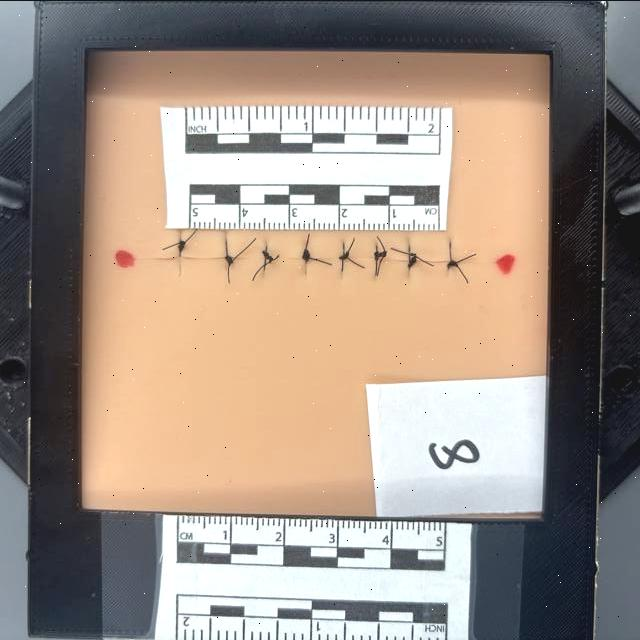incision_line: (120, 252, 506, 266)
scale_marker: (238, 198, 285, 230)
suture_d: (409, 242, 455, 270), (179, 242, 223, 268), (264, 241, 304, 269), (341, 246, 378, 272), (308, 245, 342, 272), (377, 247, 412, 271), (233, 246, 263, 264)
suture_l: (223, 257, 231, 284), (338, 257, 347, 279), (300, 258, 310, 277), (176, 258, 184, 278), (373, 258, 379, 278), (406, 260, 413, 276), (262, 258, 269, 272), (448, 260, 453, 268)
suture_r: (301, 231, 314, 258), (222, 230, 230, 258), (176, 230, 184, 258), (338, 237, 347, 257), (406, 238, 413, 260), (262, 239, 270, 258), (448, 237, 453, 261), (373, 240, 379, 258)
